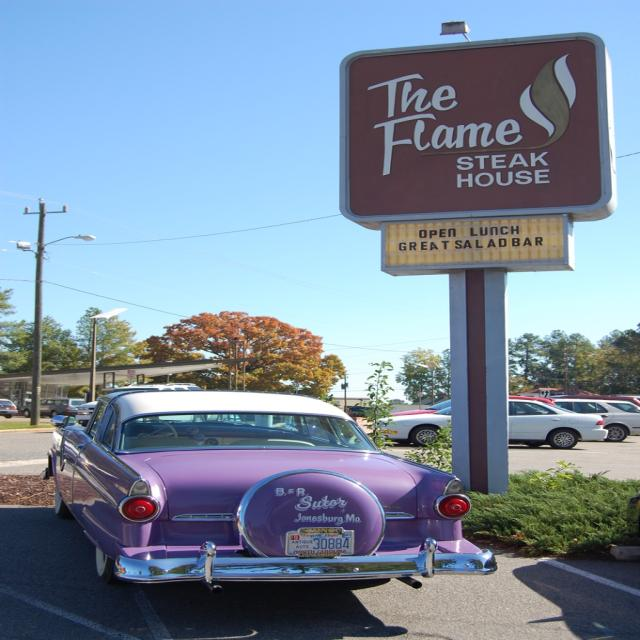car: (40, 387, 500, 579)
